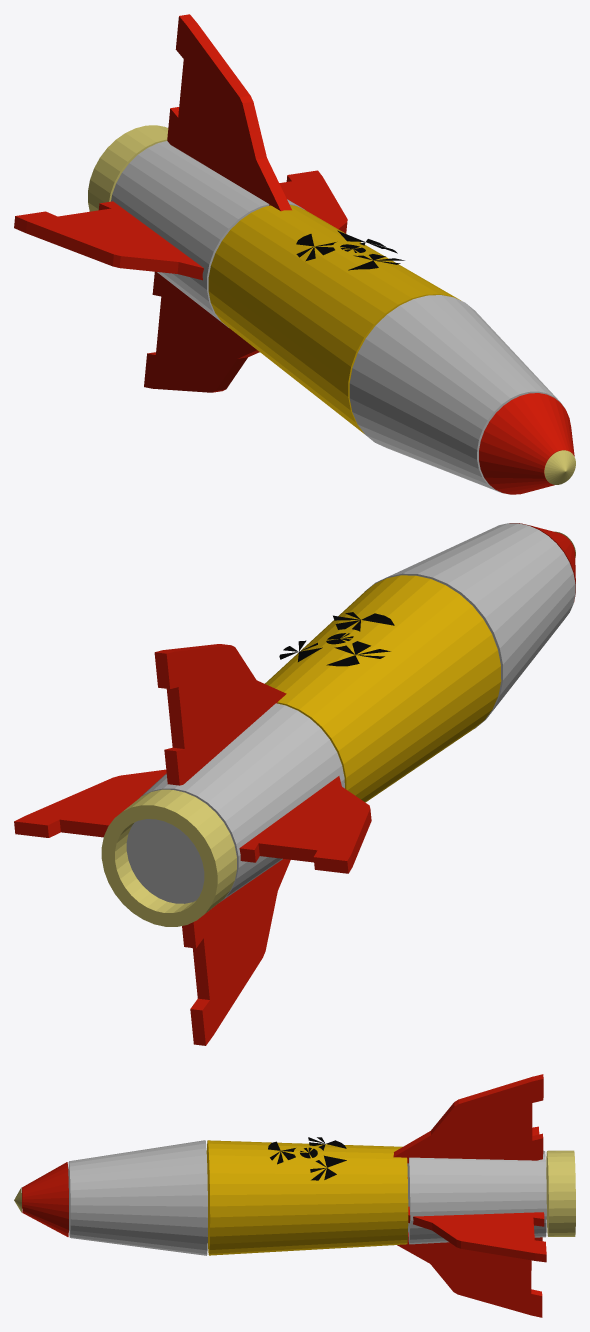
File: Nuclear.glb
3 views of the same model, one above another, from view 1: azimuth 30°, elevation 25°; view 2: azimuth 150°, elevation 25°; view 3: azimuth 270°, elevation 25° (orthographic). The views are drawn at different scales.
Visible parts, largest first — view 1: Cylinder.002; view 2: Cylinder.002; view 3: Cylinder.002.
Boxes of the visible parts, <box> form: Cylinder.002: <box>14,14,575,494</box>; Cylinder.002: <box>14,523,575,1045</box>; Cylinder.002: <box>14,1074,575,1317</box>.
Size of the model in its own units: 1.31 by 1.46 by 2.95.
